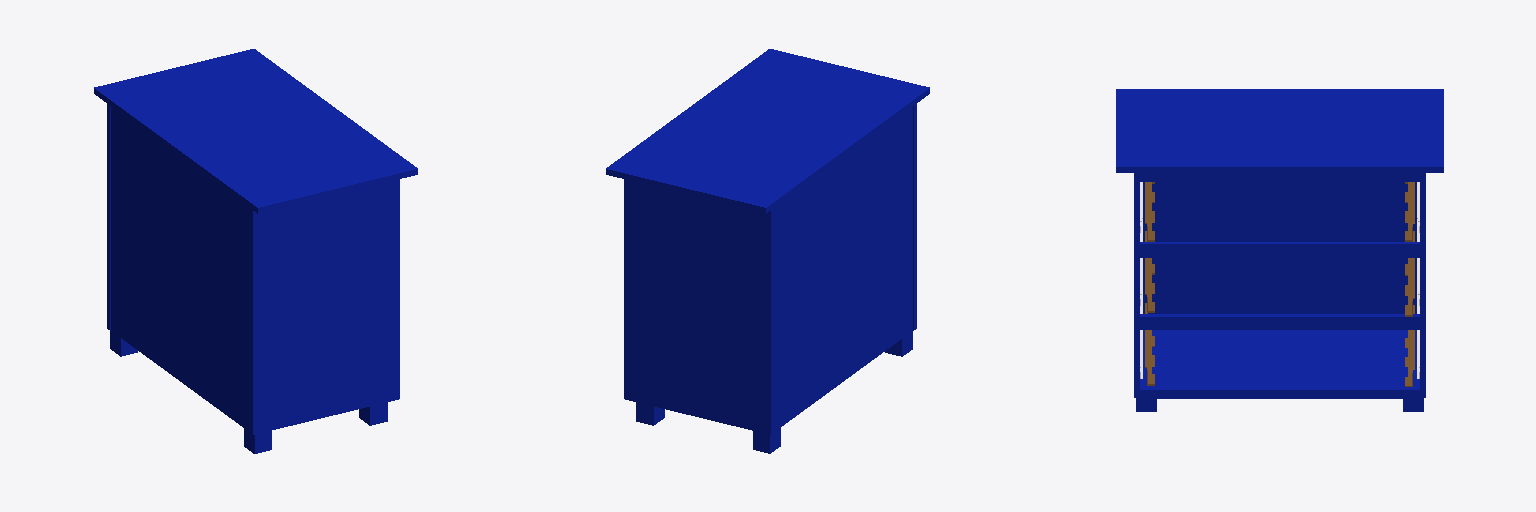
3 views of the same model, side by side, from view 1: azimuth 30°, elevation 25°; view 2: azimuth 150°, elevation 25°; view 3: azimuth 270°, elevation 25° (orthographic).
Visible parts, largest first — view 1: polySurface59 polySurface110, polySurface59 polySurface114, polySurface59 polySurface124, polySurface59 polySurface125, polySurface59 polySurface101; view 2: polySurface59 polySurface125, polySurface59 polySurface114, polySurface59 polySurface124, polySurface59 polySurface110, polySurface59 polySurface138; view 3: polySurface59 polySurface114, polySurface59 polySurface124, polySurface59 polySurface135, polySurface59 polySurface118, polySurface59 polySurface133, polySurface59 polySurface139, polySurface59 polySurface125, polySurface59 polySurface110.
Part boxes in pixels (x1,y1,x2,y2): polySurface59 polySurface110: (250, 179, 399, 434); polySurface59 polySurface114: (111, 107, 249, 431); polySurface59 polySurface124: (94, 49, 417, 213); polySurface59 polySurface125: (107, 104, 110, 330); polySurface59 polySurface101: (244, 429, 271, 453); polySurface59 polySurface125: (624, 179, 773, 434); polySurface59 polySurface114: (774, 107, 912, 431); polySurface59 polySurface124: (606, 49, 929, 213); polySurface59 polySurface110: (913, 104, 916, 330); polySurface59 polySurface138: (753, 428, 780, 453); polySurface59 polySurface114: (1143, 182, 1416, 313); polySurface59 polySurface124: (1116, 89, 1443, 172); polySurface59 polySurface135: (1140, 330, 1419, 398); polySurface59 polySurface118: (1140, 242, 1419, 257); polySurface59 polySurface133: (1140, 314, 1419, 329); polySurface59 polySurface139: (1140, 173, 1419, 181); polySurface59 polySurface125: (1420, 173, 1425, 397); polySurface59 polySurface110: (1134, 173, 1139, 397).
Size of the model in its own units: 1.01 by 1.54 by 1.8.
3 materials, 3 textured.